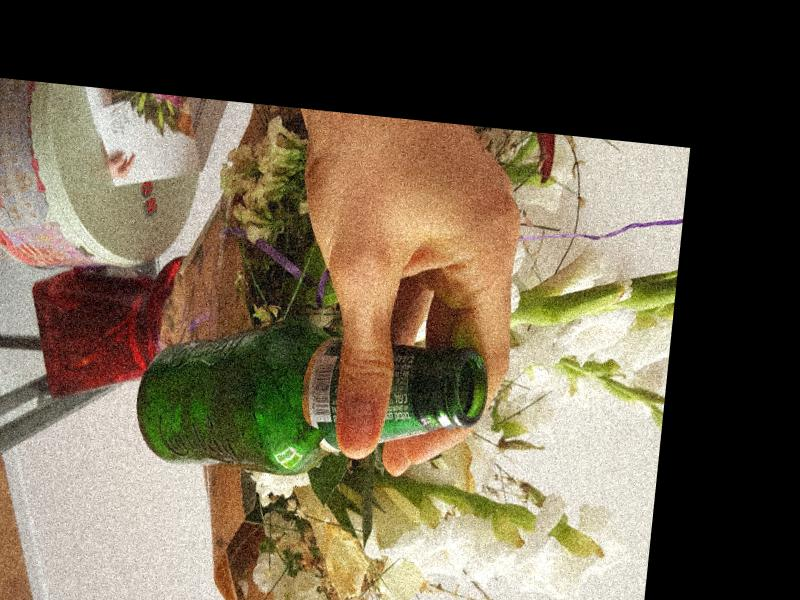Beer: (129, 306, 489, 496)
